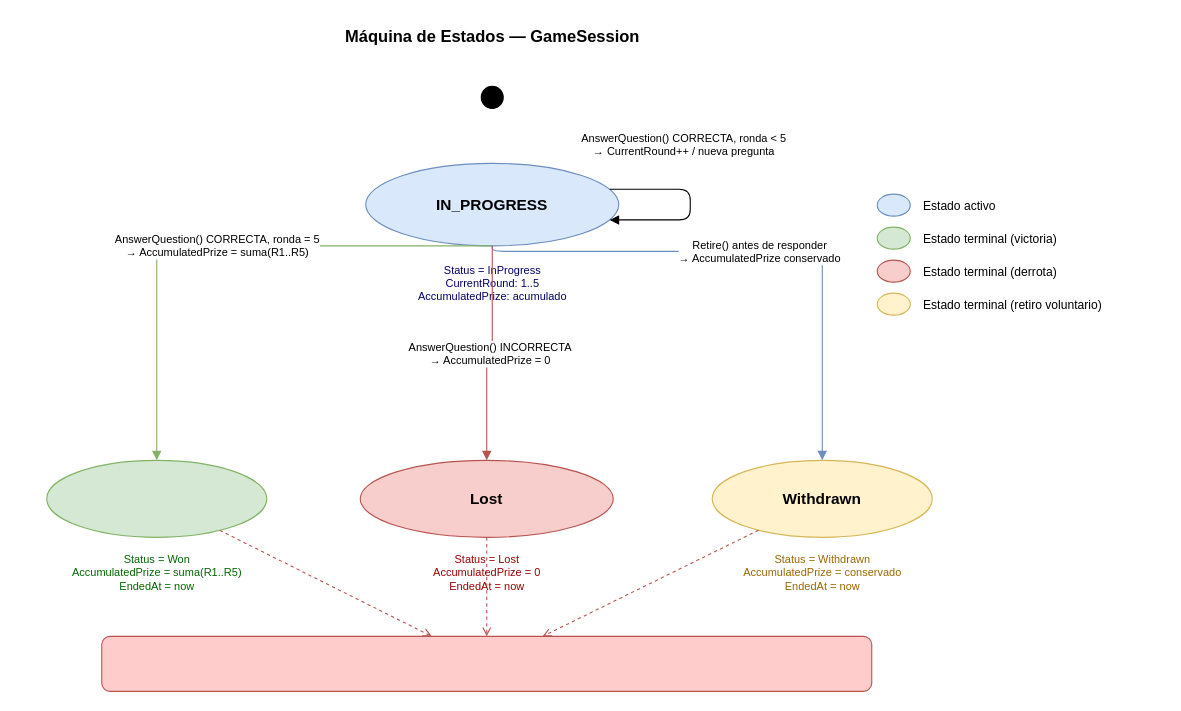
This 1181x711 diagram has some shape labels left out. Each missing label, with the box of its shape:
Fin del Juego: (101, 635, 872, 691)
WON: (46, 459, 267, 537)
